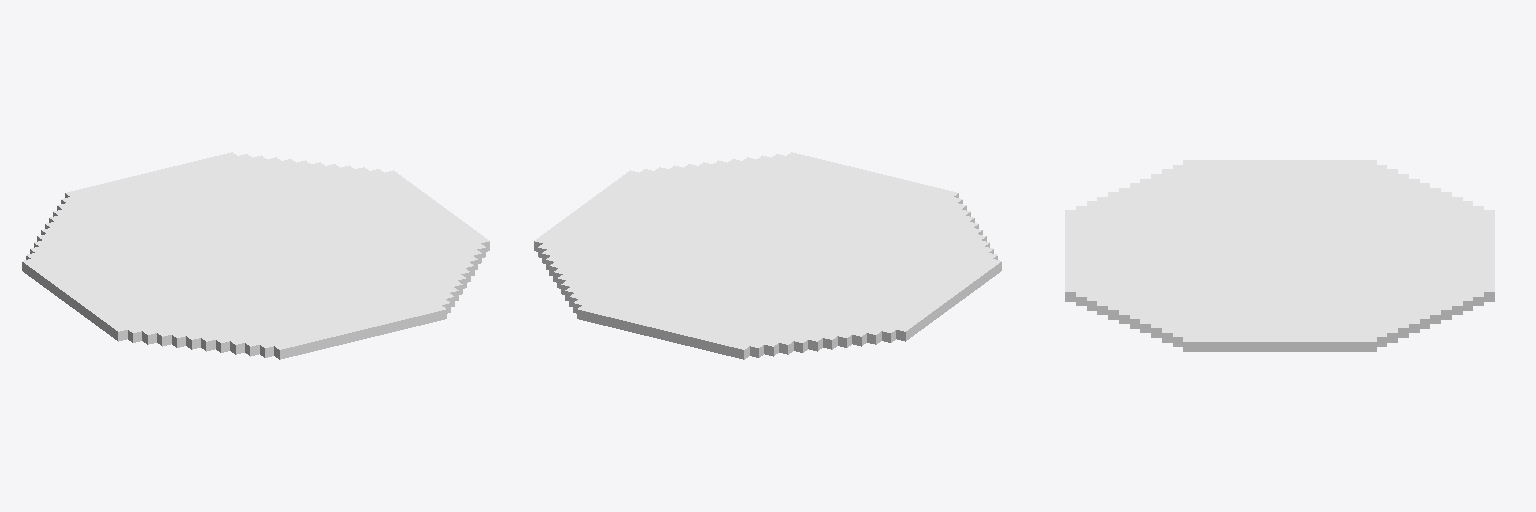
File: class_III_v2.obj
3 renders of one model, left to right at view 1: azimuth 30°, elevation 25°; view 2: azimuth 150°, elevation 25°; view 3: azimuth 270°, elevation 25°, orthographic.
Parts seen in each view (by area): view 1: object 1; view 2: object 1; view 3: object 1.
Part boxes in pixels (x1,y1,x2,y2): object 1: (22, 152, 489, 359); object 1: (534, 152, 1001, 359); object 1: (1065, 160, 1494, 351).
Bounding box in the file's own units: 4 × 0.1 × 4.